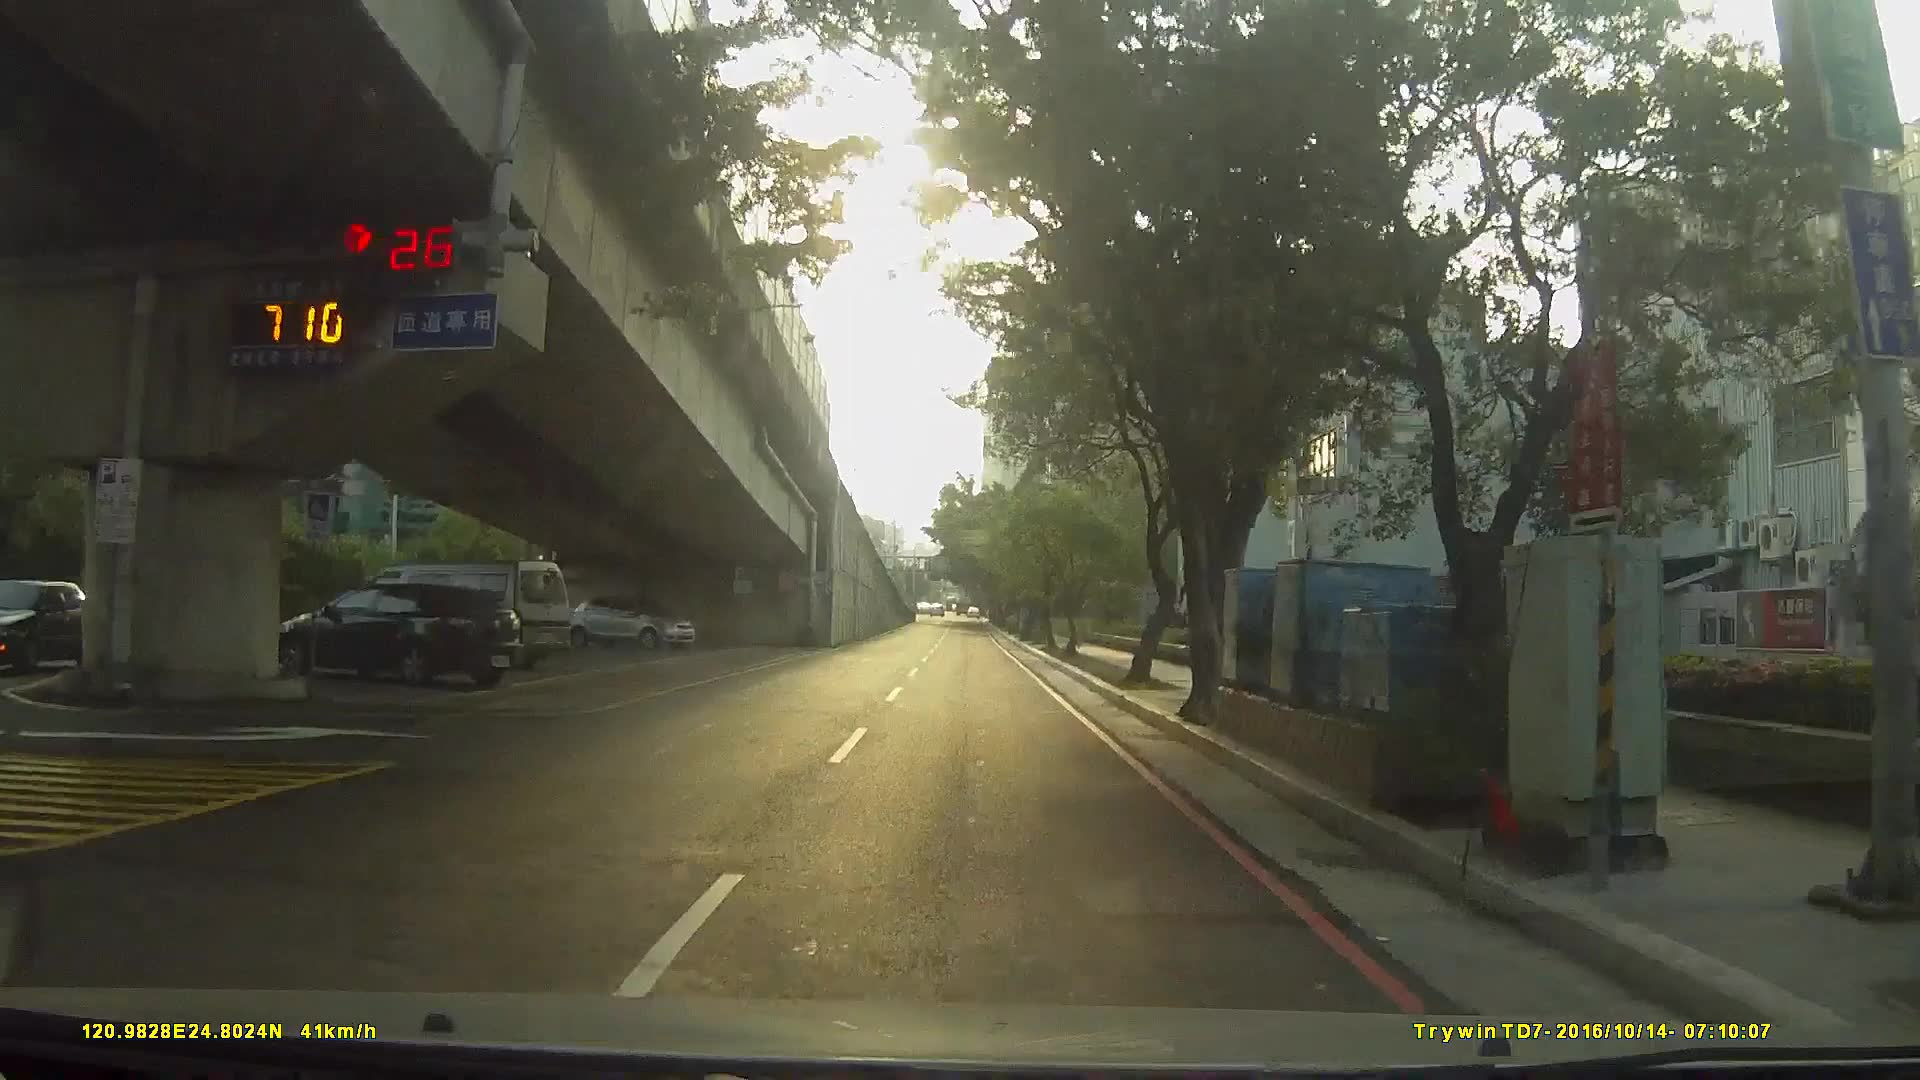vehicle: (338, 551, 579, 676), (258, 579, 518, 691), (4, 579, 117, 676), (564, 592, 695, 650)
